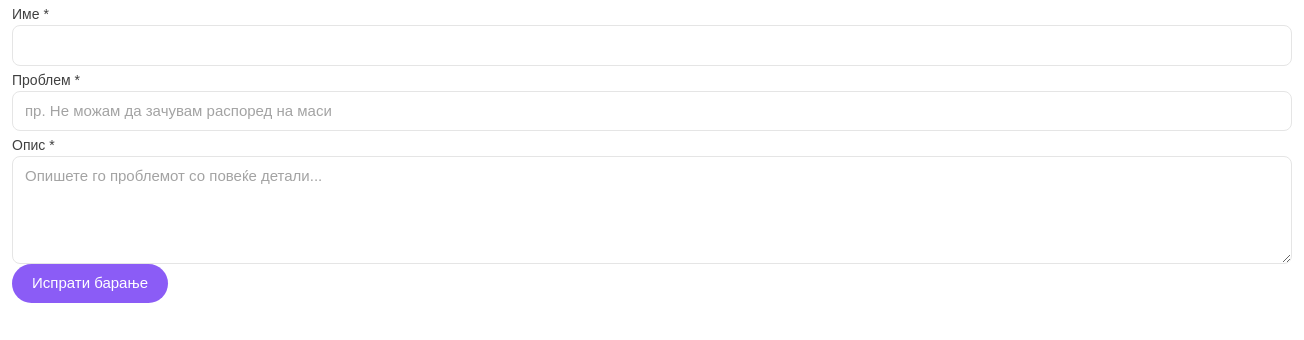
SupportTicketForm › shows the server's error message and keeps the fields filled in
In the field labelled "Име *": (652, 45) [12,25,1292,66], type "Марко"
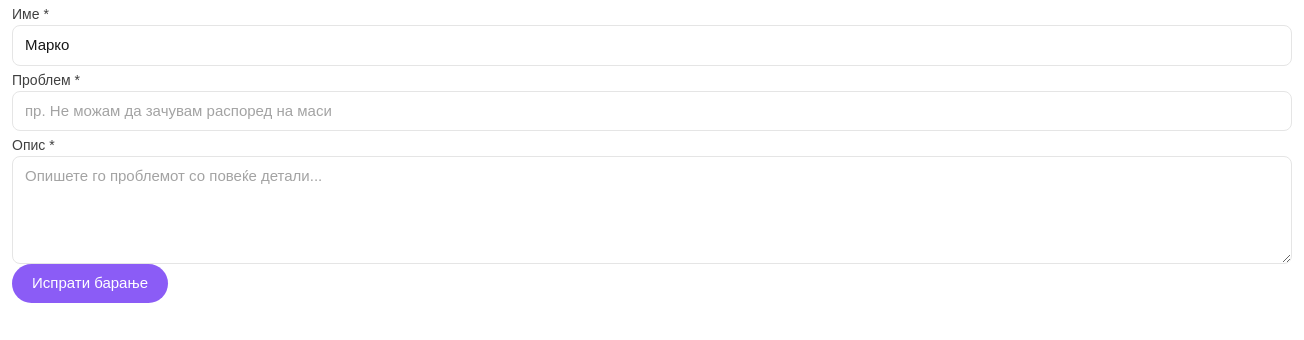
In the field labelled "Проблем *": (652, 111) [12,90,1292,131], type "Не можам да зачувам"
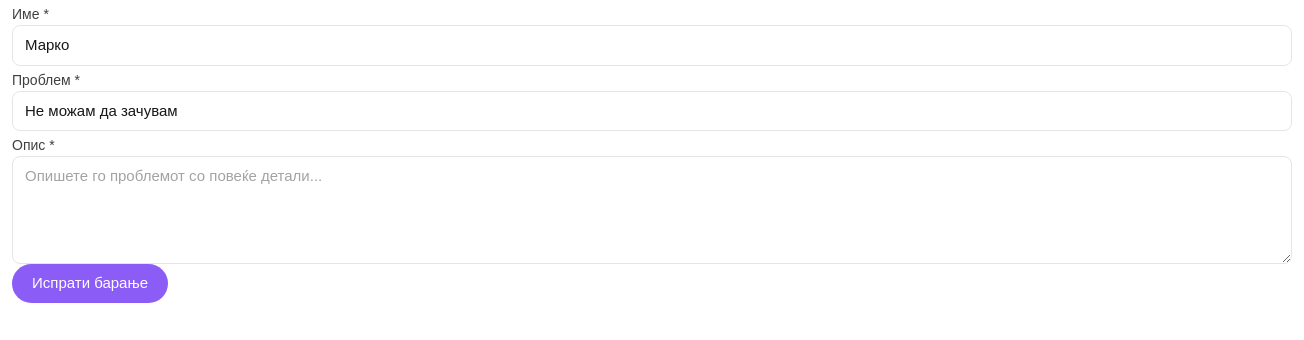
In the text box labelled "Опис *": (652, 210) [12,156,1292,264], type "Опишувам детално"
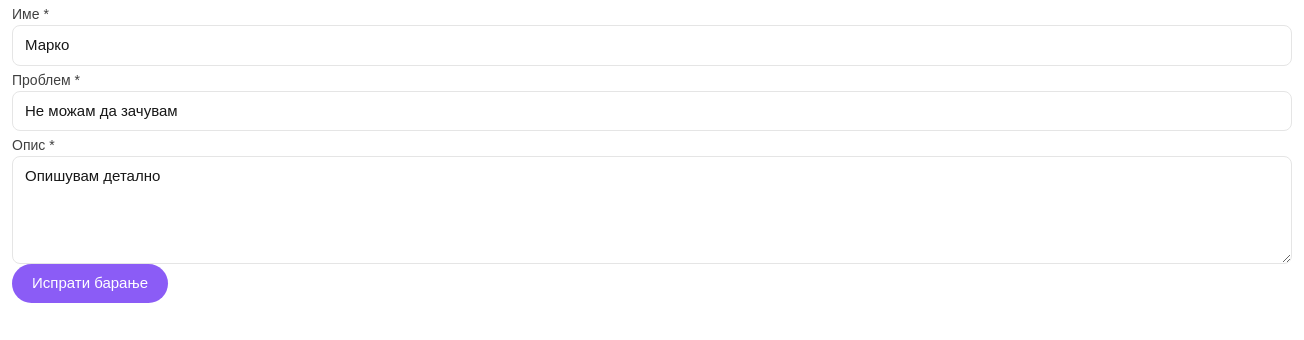
Click the button "Испрати барање": (90, 283) [12,264,168,302]
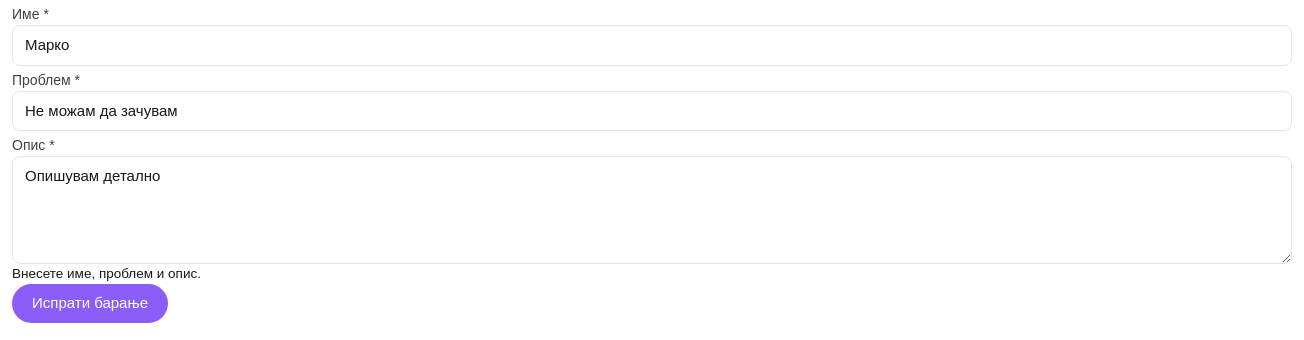
Expected: the text "Внесете име, проблем и опис." is shown, [12,266,201,281]
